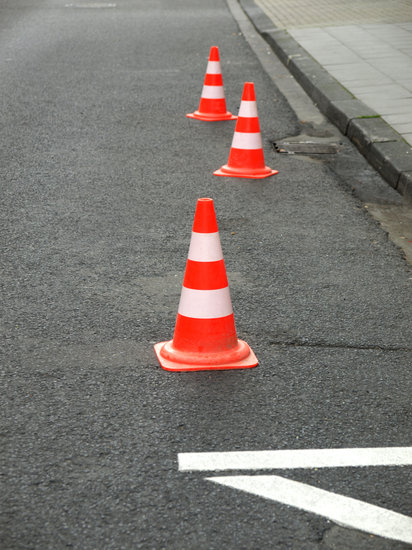cone: (154, 196, 260, 372), (210, 81, 281, 179), (185, 45, 244, 123)
